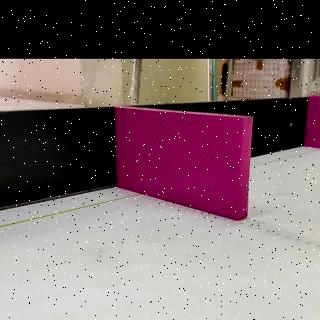xparking: (116, 118, 252, 212)
